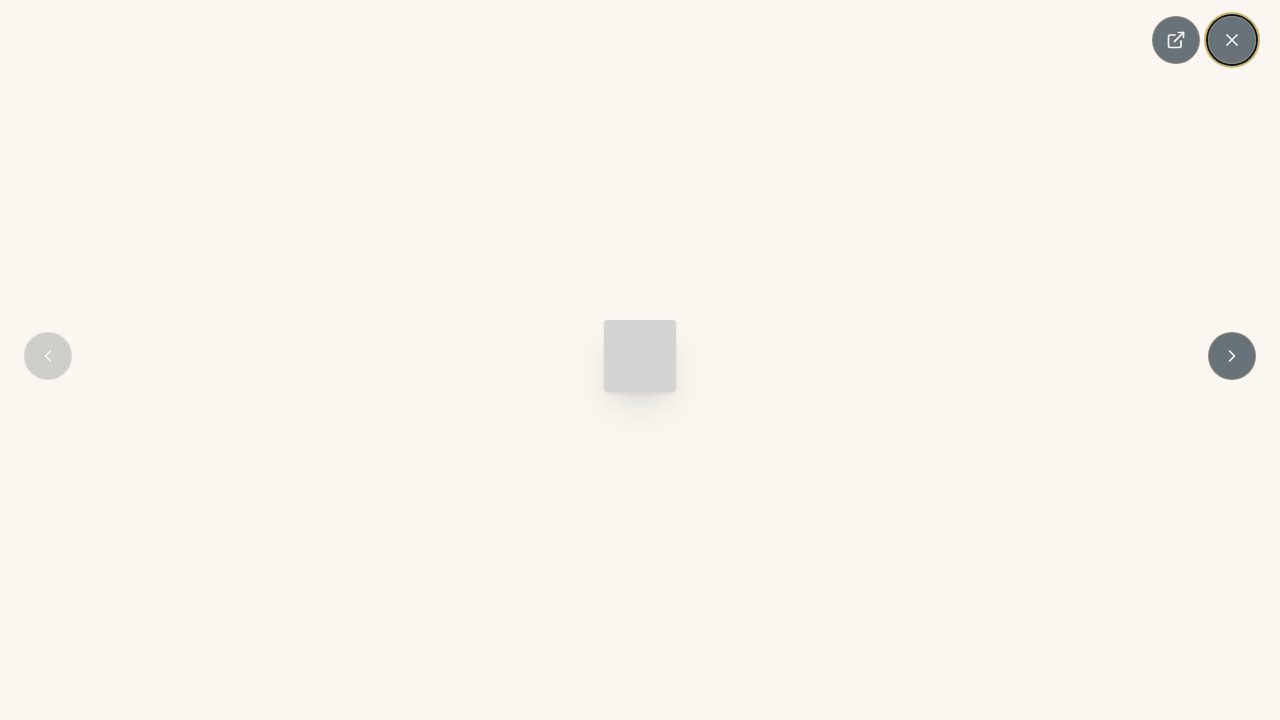
Test: Lightbox › moves with the arrow keys and the buttons
The image size is (1280, 720).
Press ArrowRight in the dialog
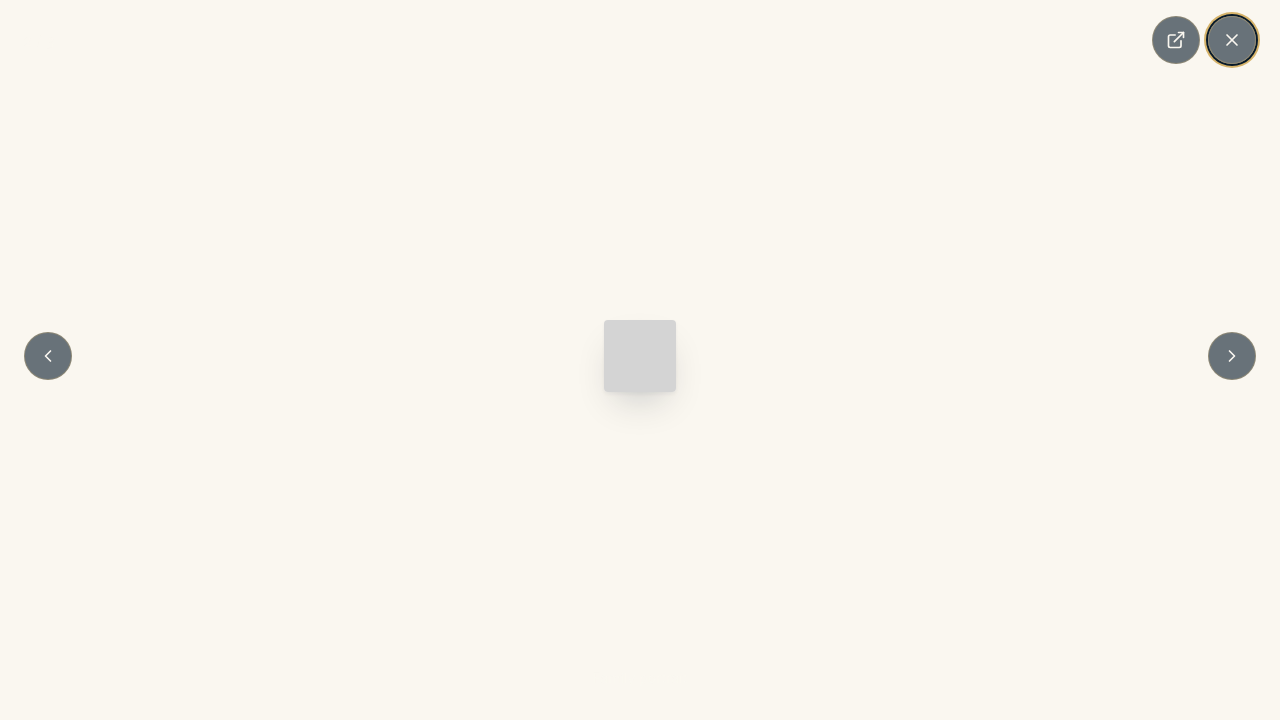
Press ArrowLeft in the dialog
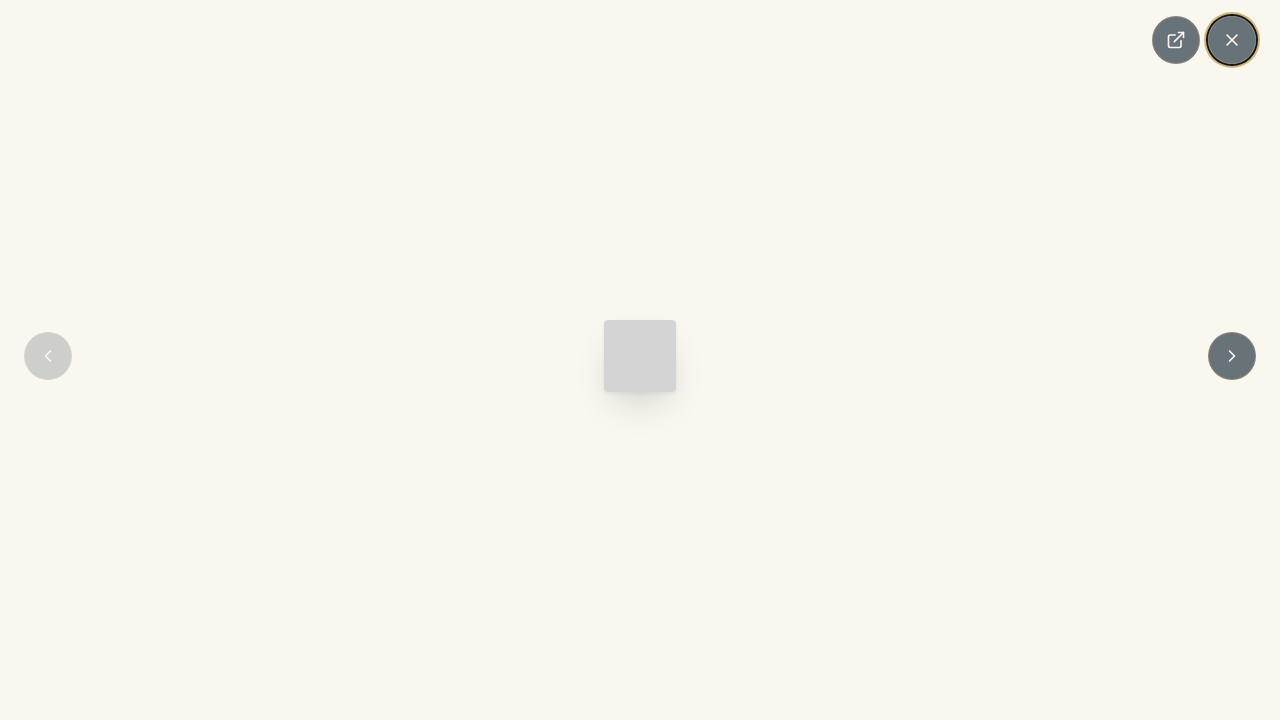
// Cannot go before the first item.
Press ArrowLeft in the dialog
Click the button named "Next item".
click(1232, 356)  # box [1208,332,1256,380]
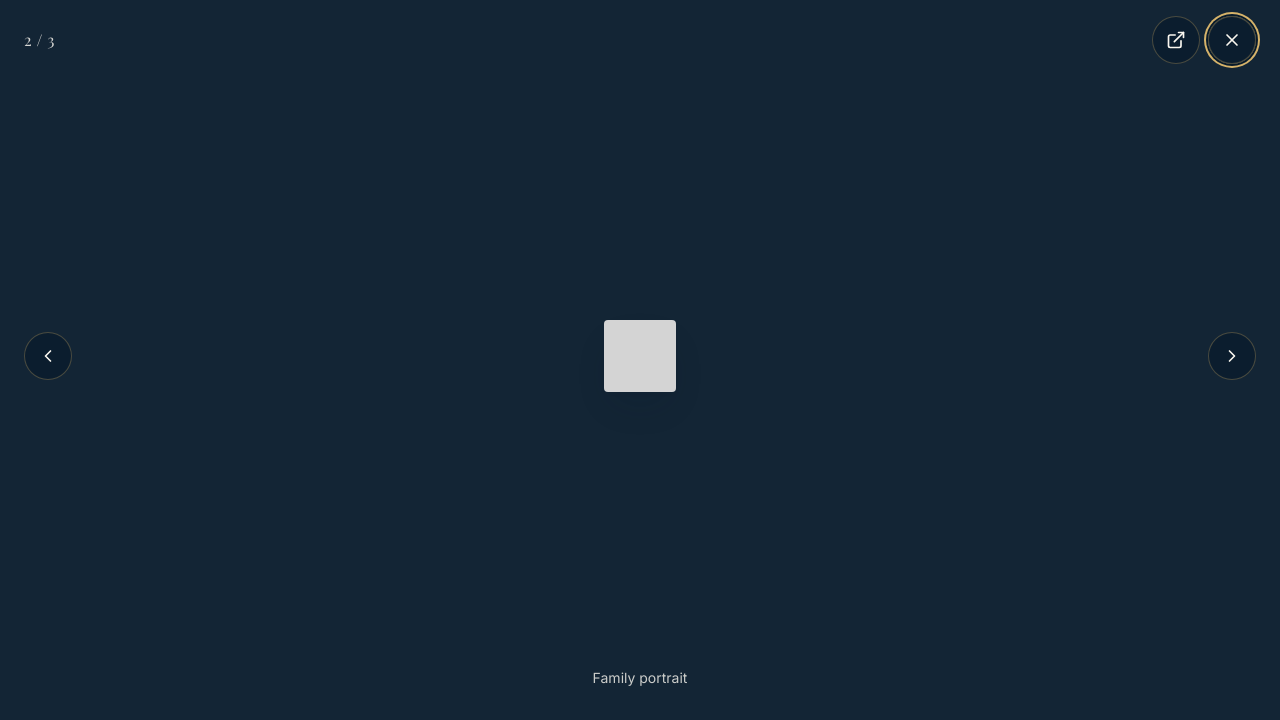
Result: the element with test id "lightbox-counter" reads "2 / 3" at [24,28,55,52]
